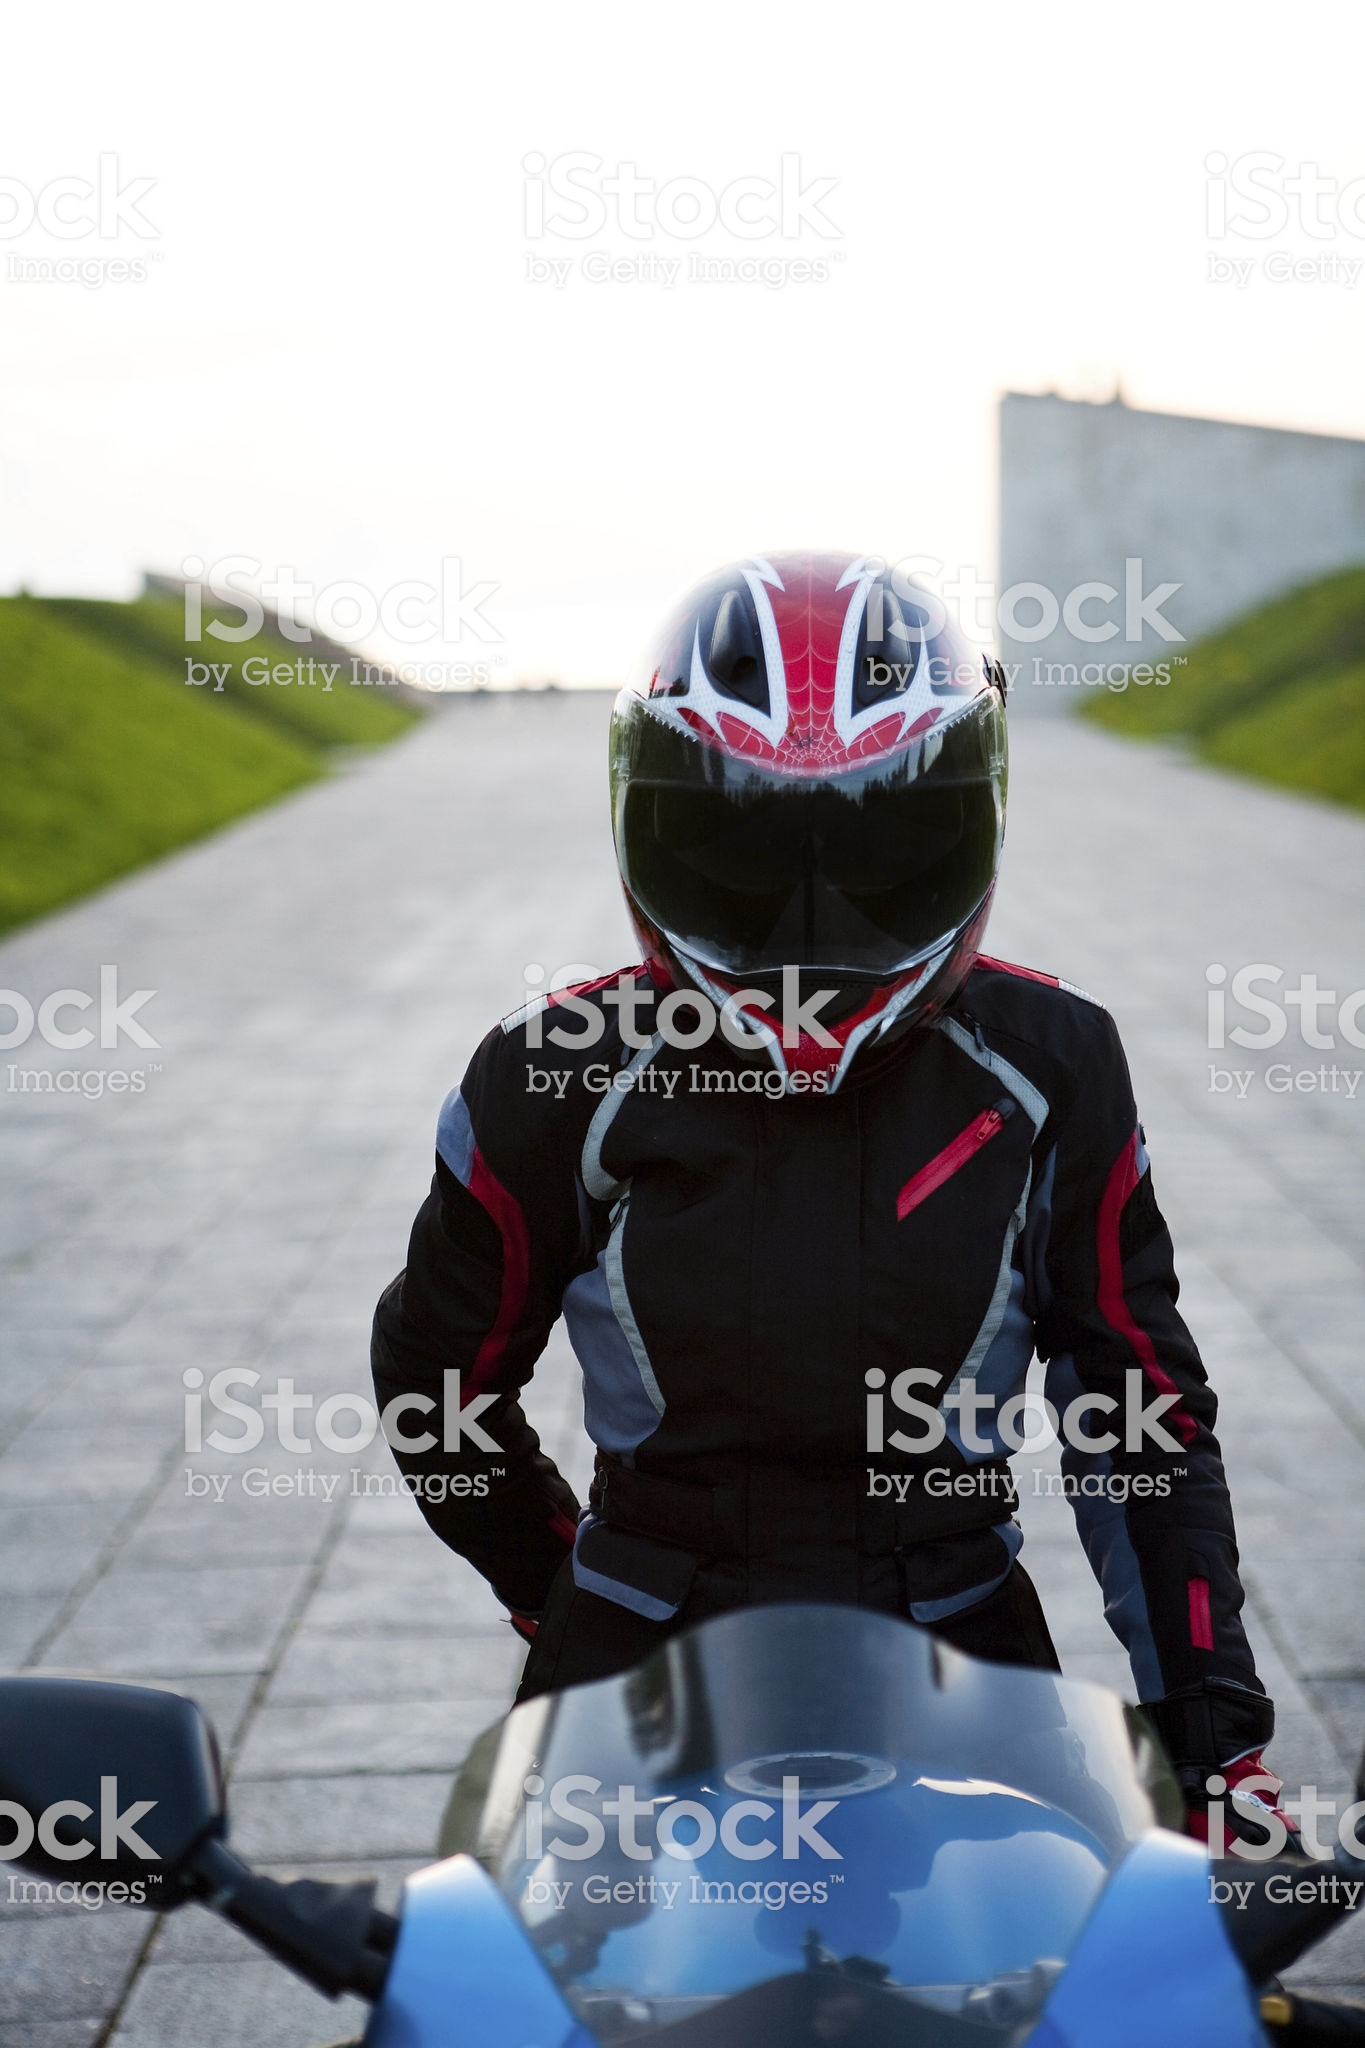helmet: (558, 560, 1037, 1113)
